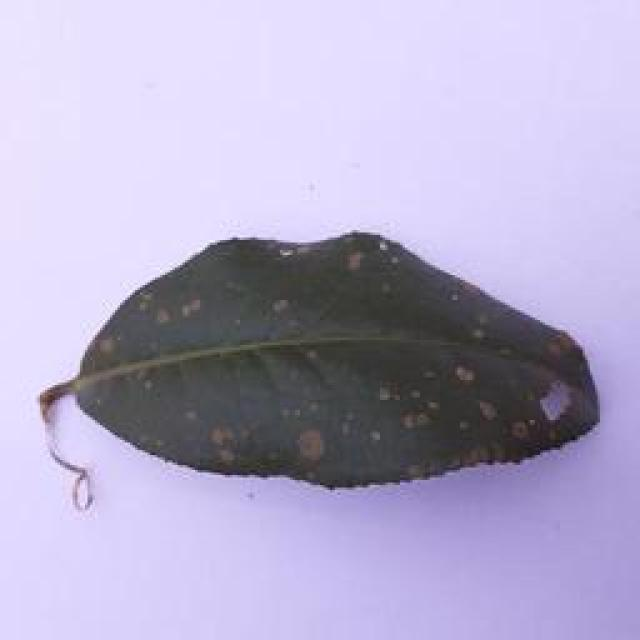Algal Leaf Spot: (45, 212, 612, 540)
